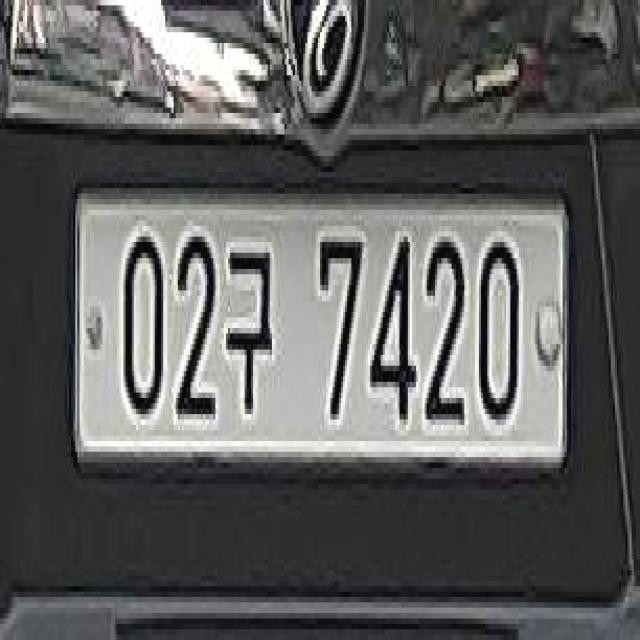illegal_plate: (76, 164, 563, 498)
